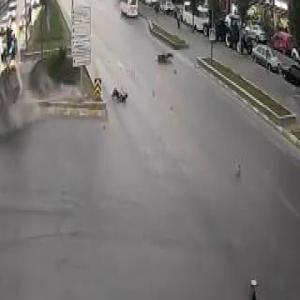fatal: (0, 53, 31, 143)
